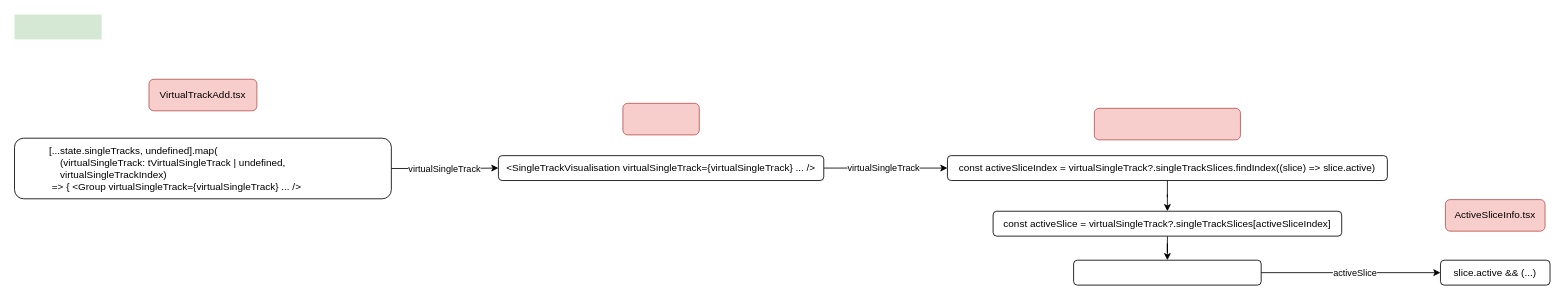
Some shapes in this 1565 by 300 pixel diagram are drawn without their labels. The shapes that lost their labels are listed below. From the top down, each one's centre as x and y in pixels, then its label:
At point 57,26: "Flow данных".
At point 660,119: "Group.tsx".
At point 1167,123: "SingleTrackVisualisation.tsx".
At point 1167,272: "<ActiveSliceInfo slice={activeSlice} ... />".
